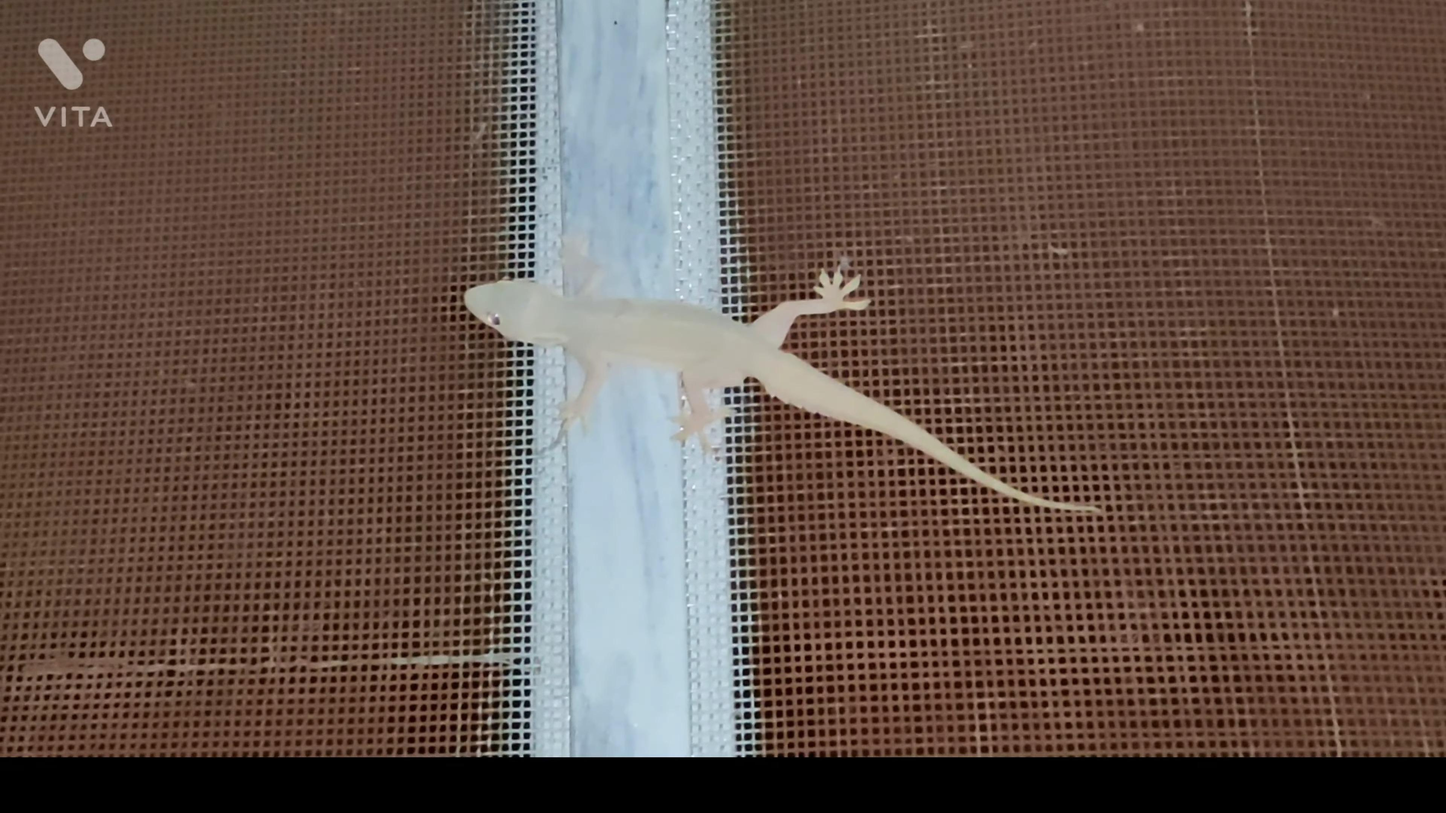lizard: (454, 225, 1106, 522)
